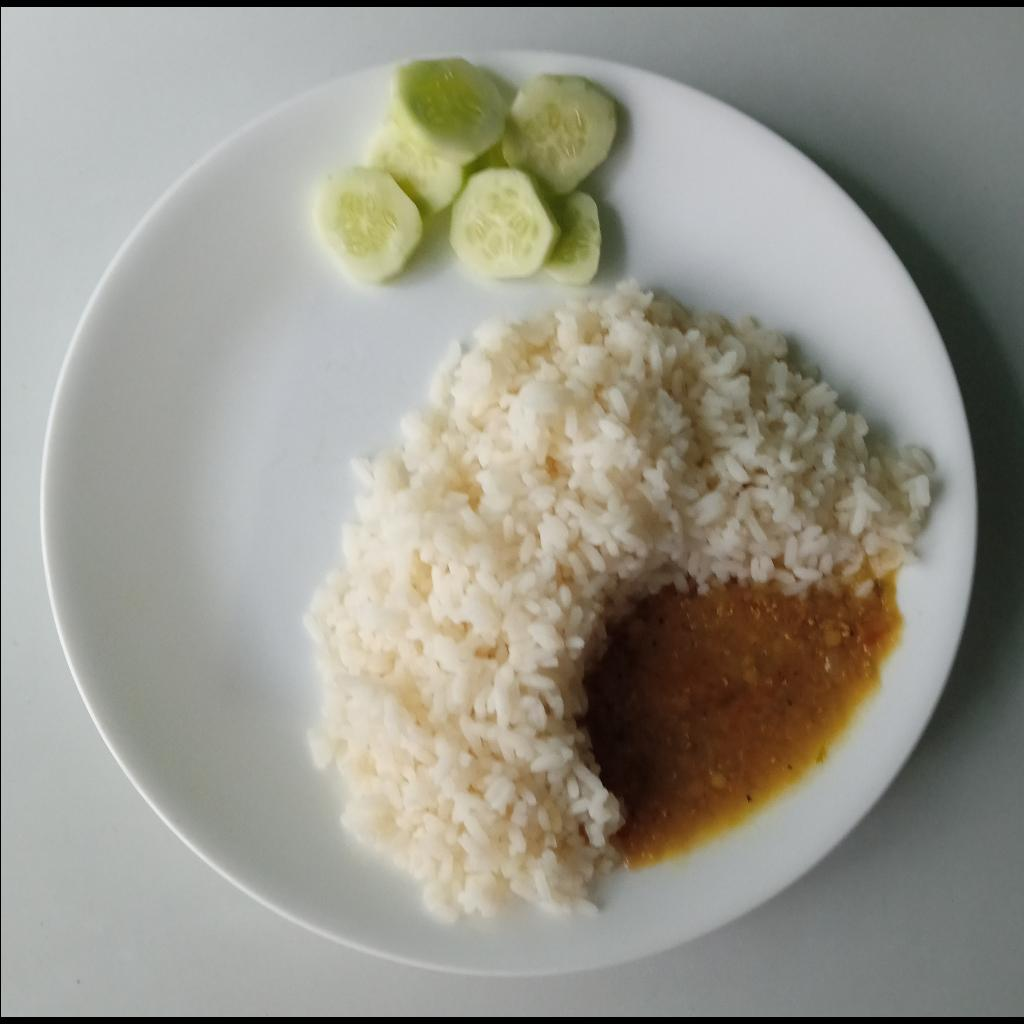cucumber: (313, 51, 618, 285)
daal: (585, 575, 906, 862)
rice: (294, 270, 940, 934)
